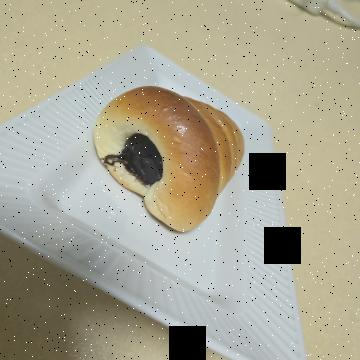cream horn: (70, 93, 260, 272)
